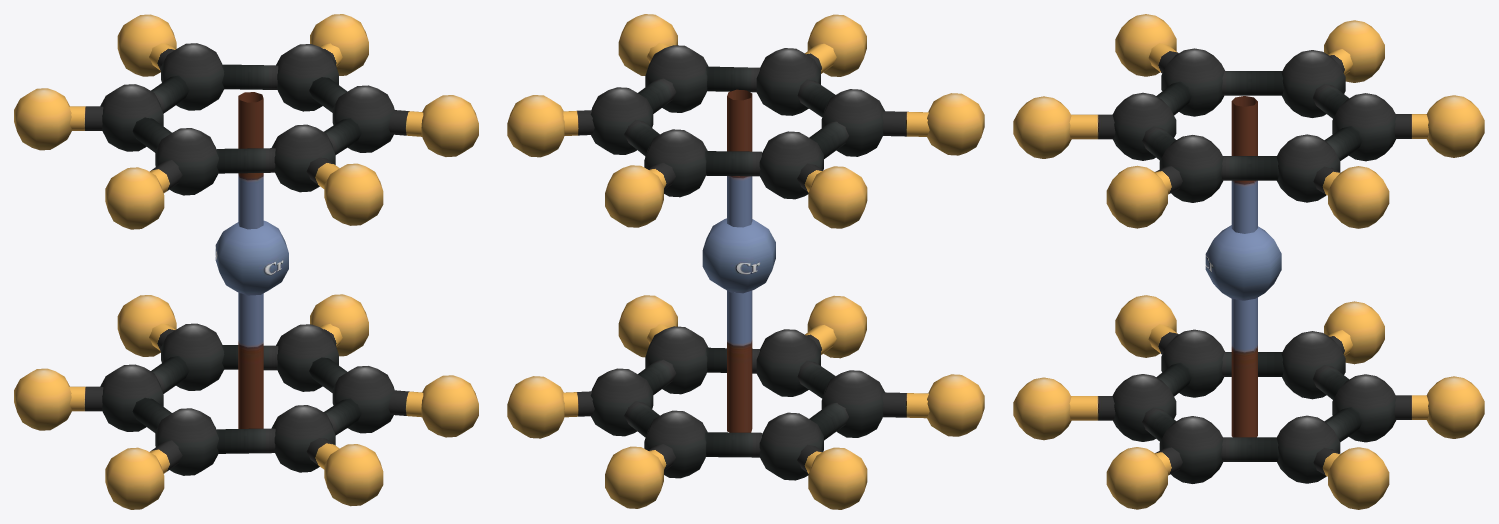
Rendered from Dibenzenechromium.dae.
The picture shows the model from 3 angles, left to right: view 1: azimuth 30°, elevation 25°; view 2: azimuth 150°, elevation 25°; view 3: azimuth 270°, elevation 25°; orthographic projection.
Parts seen in each view (by area): view 1: polySurface63; view 2: polySurface63; view 3: polySurface63.
Part boxes in pixels (bbox=[...]): polySurface63: bbox=[14, 14, 478, 509]; polySurface63: bbox=[507, 14, 984, 509]; polySurface63: bbox=[1013, 14, 1484, 509].
Size of the model in its own units: 3.92 by 3.52 by 4.39.
Materials: 1 (1 with a texture image).
